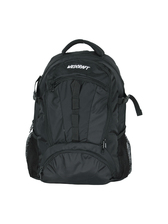bag: (19, 36, 146, 188)
